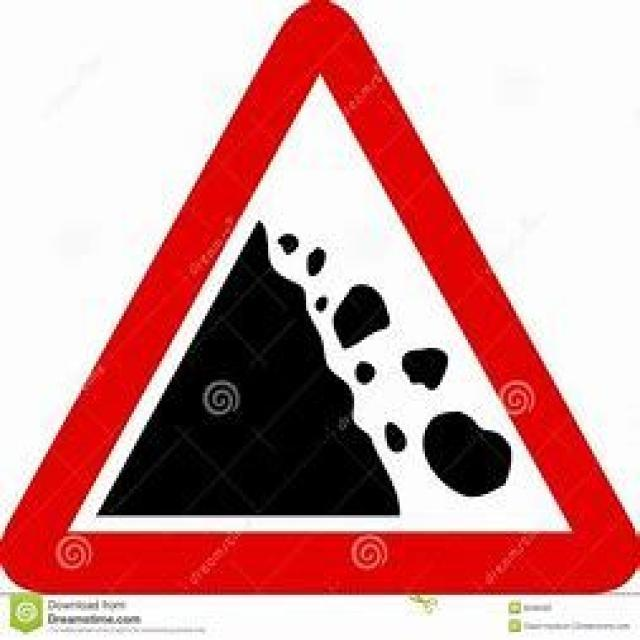falling rocks: (29, 21, 611, 599)
